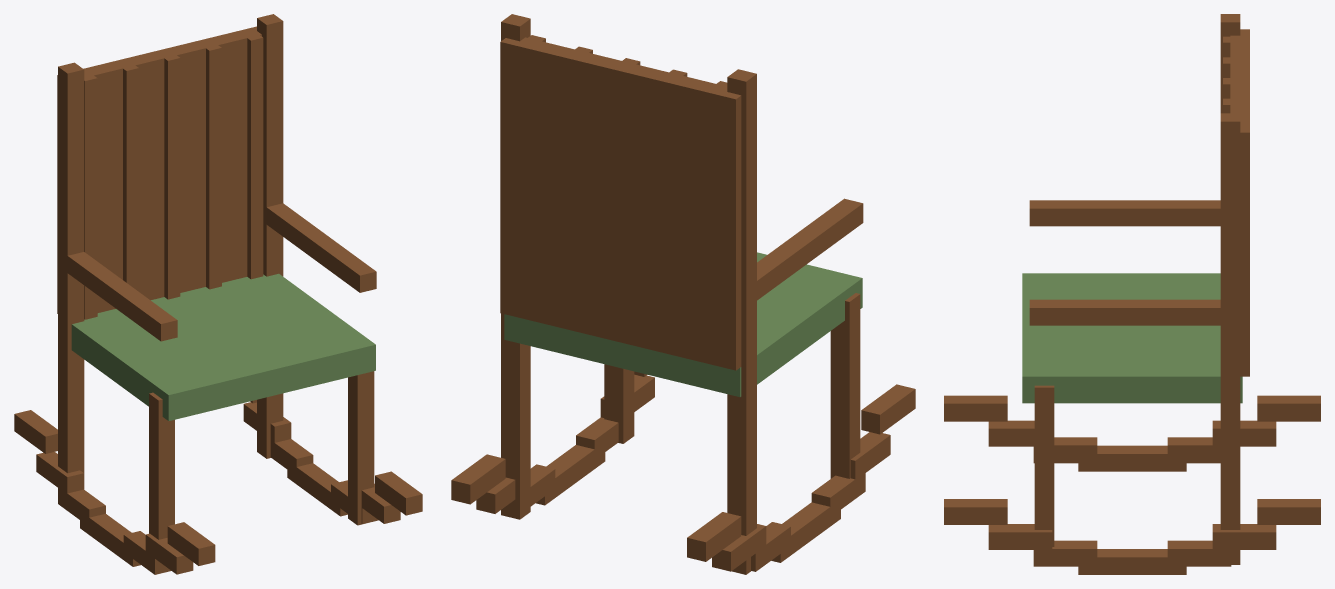
The model's file is armchair_rocking.glb.
3 views of the same model, side by side, from view 1: azimuth 30°, elevation 25°; view 2: azimuth 150°, elevation 25°; view 3: azimuth 270°, elevation 25° (orthographic). The views are drawn at different scales.
Visible parts, largest first — view 1: rocking_chair; view 2: rocking_chair; view 3: rocking_chair.
Part boxes in pixels (x1,y1,x2,y2): rocking_chair: [14, 14, 422, 574]; rocking_chair: [451, 14, 915, 574]; rocking_chair: [944, 14, 1320, 574].
Size of the model in its own units: 0.54 by 1.02 by 0.77.
